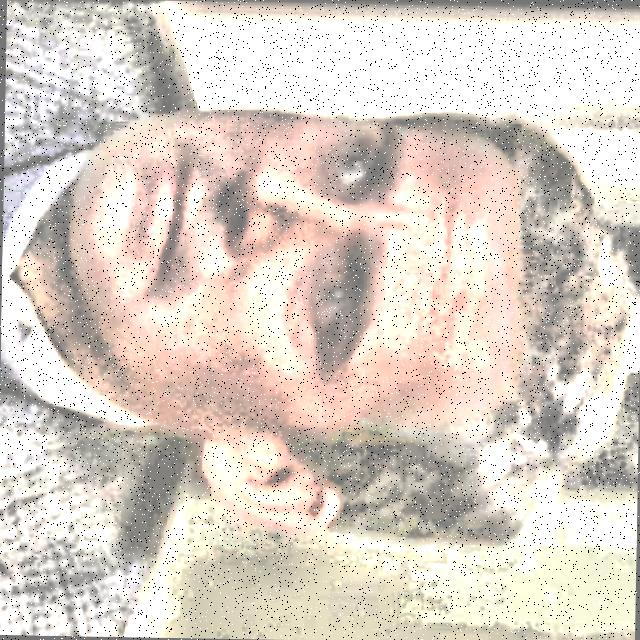fear: (61, 93, 633, 564)
